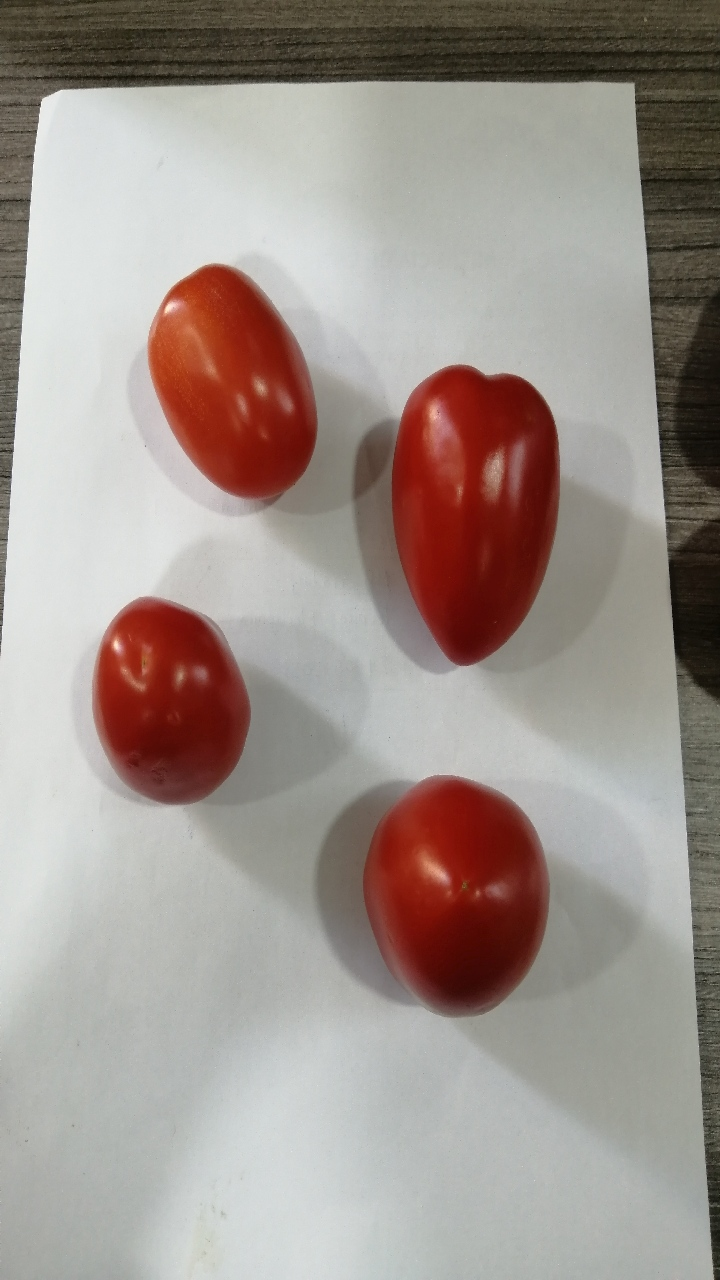tomateRojo: (366, 346, 581, 685), (341, 739, 560, 1029), (132, 242, 328, 520), (74, 579, 266, 825)
